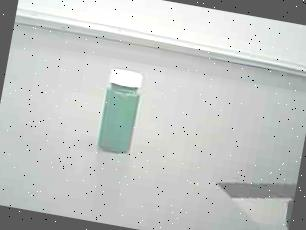Bottle C: (86, 61, 156, 166)
